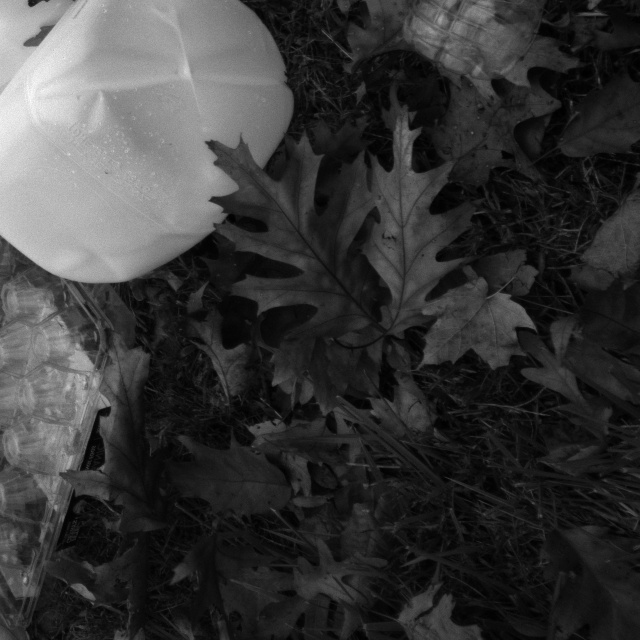bottle: (400, 0, 625, 83)
can: (0, 0, 299, 279), (0, 0, 82, 142)
container: (0, 175, 120, 640)
